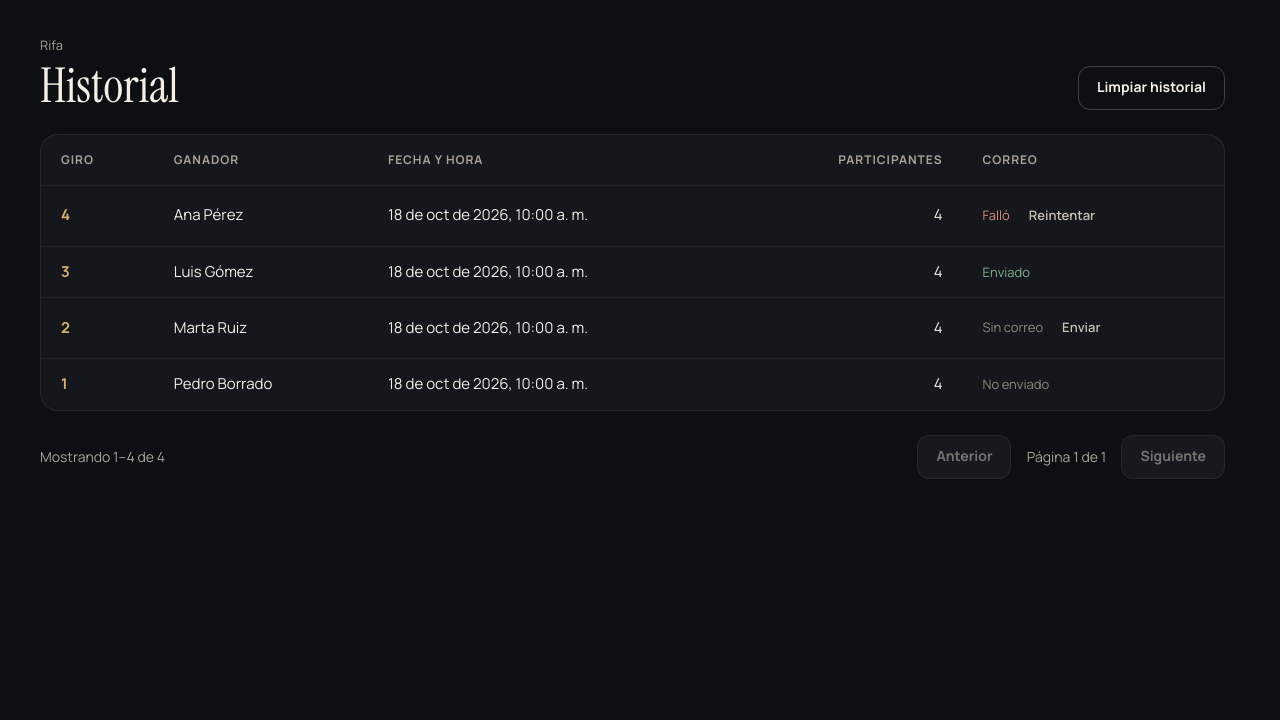
Scenario: HistoryView · correo al ganador › reintentar pone el correo en cola, avisa y refresca el estado
Check: the cell "Ana Pérez" is shown, box [154,185,368,246]
Click the button "Reintentar".
click(1062, 216)  # box [1018,200,1106,232]
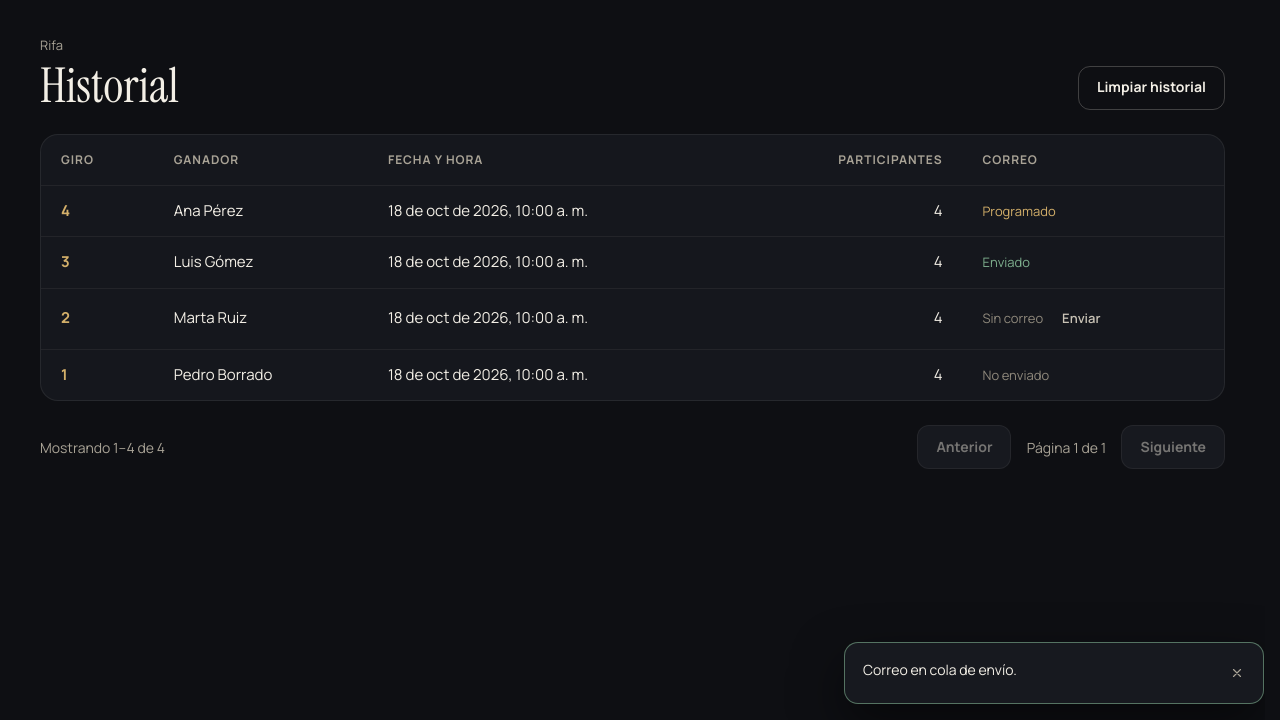
Check: the text "Correo en cola de envío." is shown, box [863,660,1017,679]
